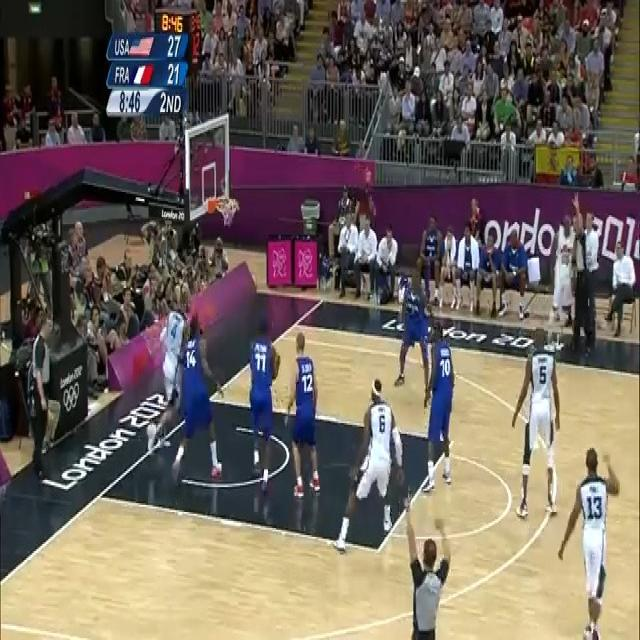hoop: (220, 193, 238, 226)
